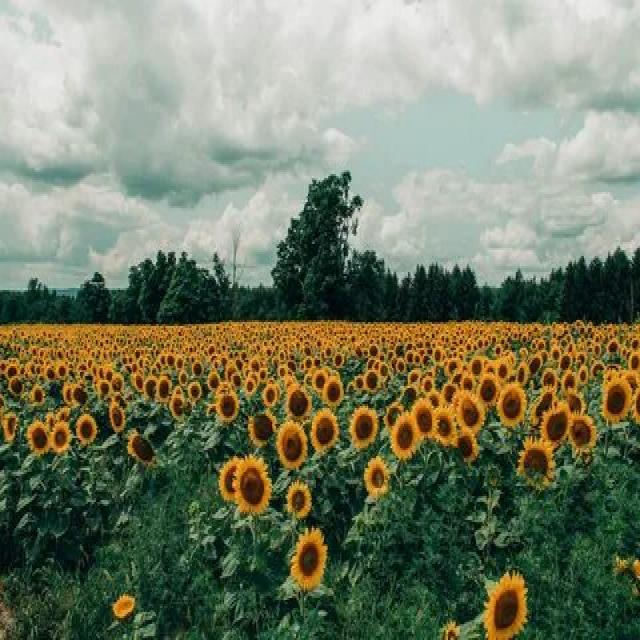sunflower: (482, 568, 530, 640), (230, 450, 274, 518), (289, 526, 328, 592), (517, 434, 556, 494), (603, 370, 632, 438), (274, 416, 310, 470), (387, 408, 422, 460), (542, 398, 574, 454), (307, 408, 345, 454), (281, 380, 316, 424), (498, 380, 530, 428), (429, 404, 459, 454), (125, 430, 160, 470), (456, 386, 485, 432), (362, 456, 387, 502), (213, 384, 243, 422), (102, 396, 130, 434), (24, 418, 51, 456), (72, 410, 100, 446), (322, 374, 346, 410), (150, 372, 174, 402), (362, 366, 382, 396)
